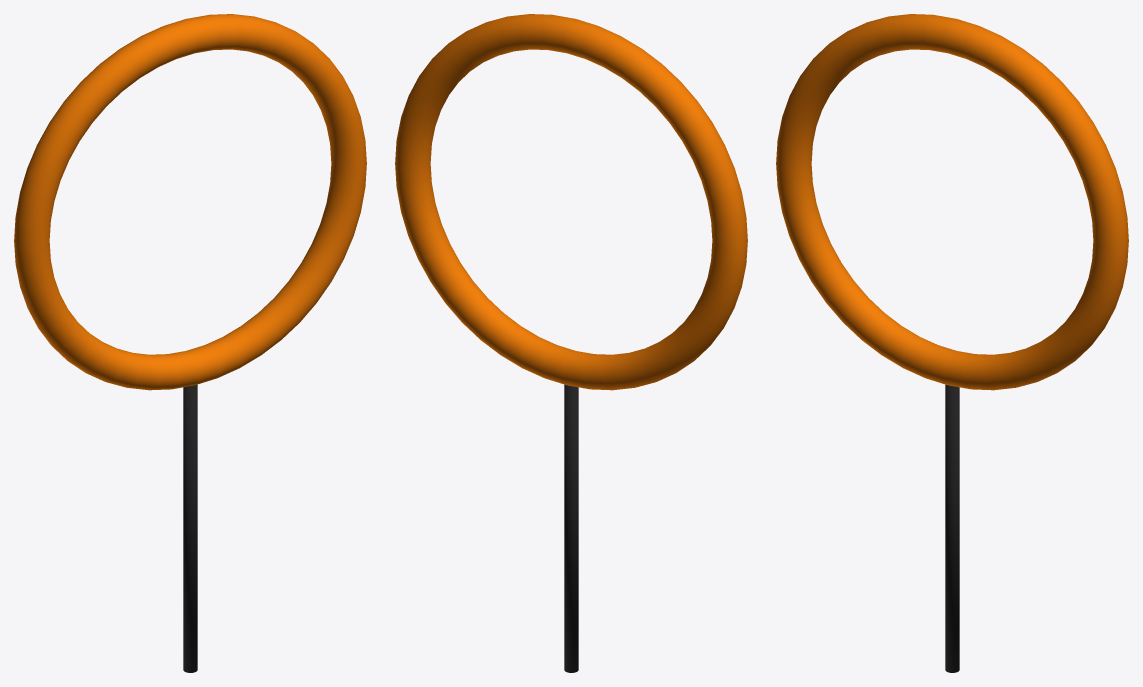
File: Hoop.fbx
3 views of the same model, side by side, from view 1: azimuth 30°, elevation 25°; view 2: azimuth 150°, elevation 25°; view 3: azimuth 330°, elevation 25° (orthographic).
Visible parts, largest first — view 1: Hoop, Hoop Stand; view 2: Hoop, Hoop Stand; view 3: Hoop, Hoop Stand.
Boxes of the visible parts, left/top/right/bottom form: Hoop: left=14, top=14, right=366, bottom=390; Hoop Stand: left=183, top=384, right=197, bottom=672; Hoop: left=395, top=14, right=747, bottom=390; Hoop Stand: left=564, top=384, right=578, bottom=672; Hoop: left=776, top=14, right=1128, bottom=390; Hoop Stand: left=945, top=384, right=959, bottom=672.
Size of the model in its own units: 2163 by 3861 by 193.
